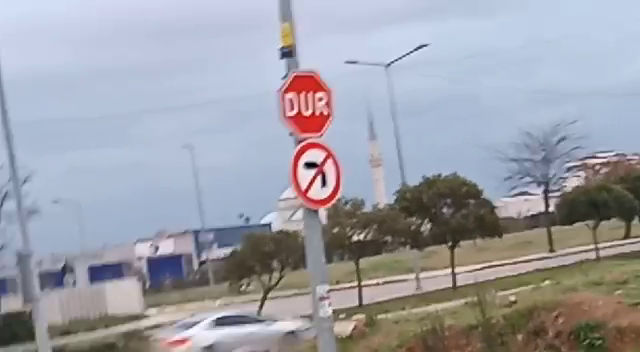no_left: (287, 136, 344, 211)
stop: (274, 67, 338, 142)
